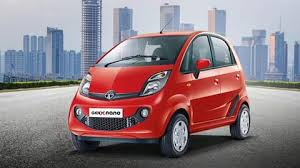Nano: (66, 30, 250, 155)
